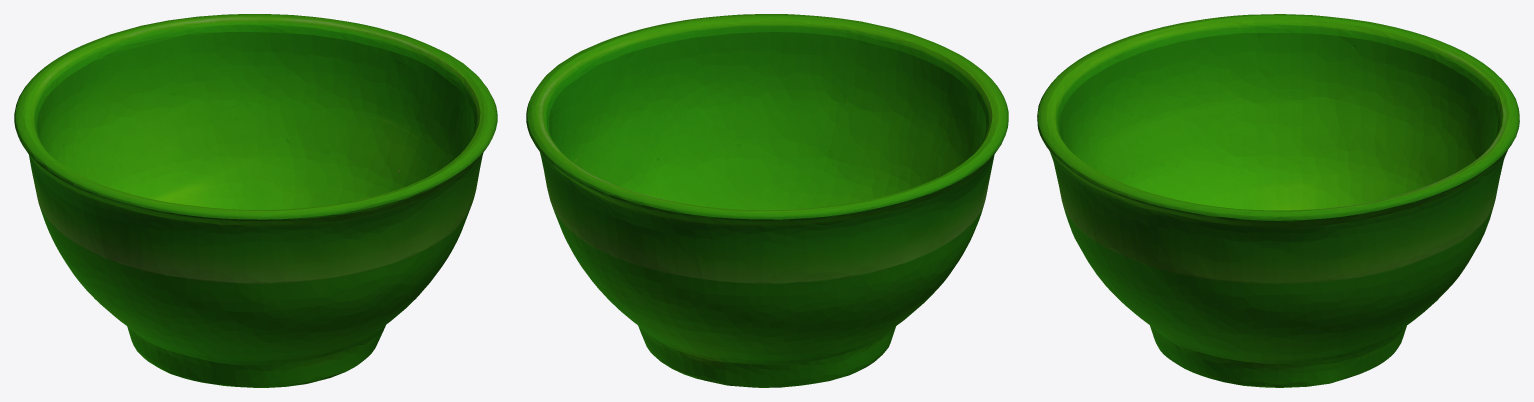
The model's file is bowl_scan.glb.
3 renders of one model, left to right at view 1: azimuth 30°, elevation 25°; view 2: azimuth 150°, elevation 25°; view 3: azimuth 270°, elevation 25°, orthographic.
Parts seen in each view (by area): view 1: world; view 2: world; view 3: world.
Boxes of the visible parts, box(x1,y1,x2,y2) form: world: box(14, 14, 497, 387); world: box(526, 14, 1008, 387); world: box(1037, 14, 1519, 387).
Size of the model in its own units: 1 by 0.5144 by 1.
Materials: 1 (1 with a texture image).
